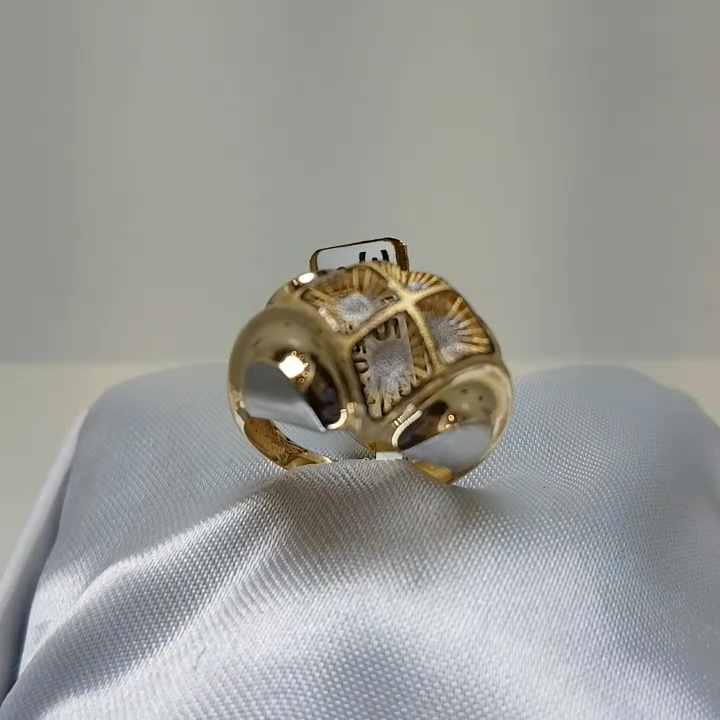Ring 2: (203, 225, 527, 498)
